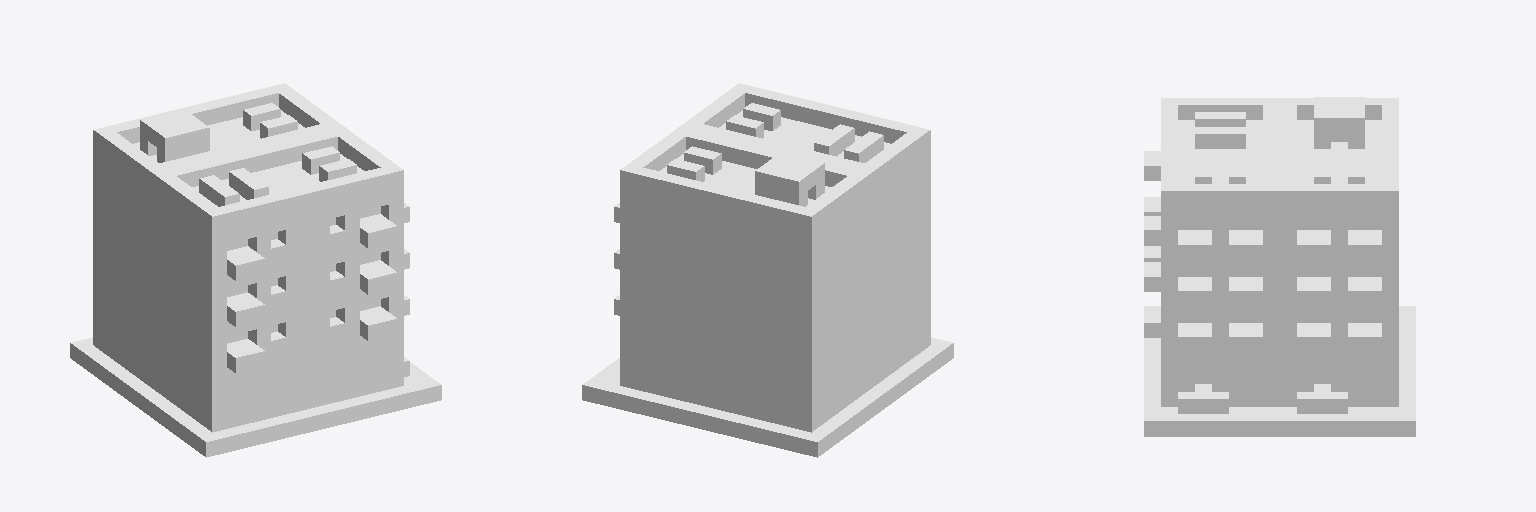
Rendered from House13.obj.
The picture shows the model from 3 angles: view 1: azimuth 30°, elevation 25°; view 2: azimuth 150°, elevation 25°; view 3: azimuth 270°, elevation 25°; orthographic projection.
Bounding box in the file's own units: 16 × 16 × 16.